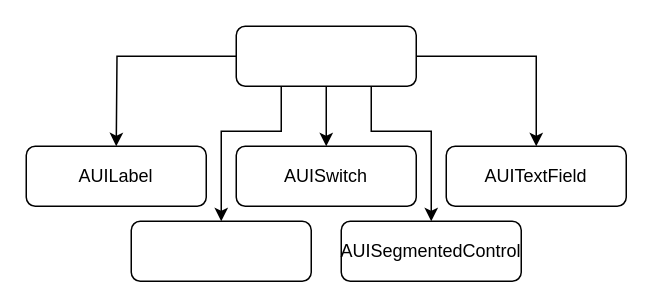
Some shapes in this 653 by 308 pixel diagram are drawn without their labels. The centre of each missing label's shape, as x and y in pixels:
"AUIProgressView" goes at point (220, 250).
"AUIView" goes at point (325, 55).
